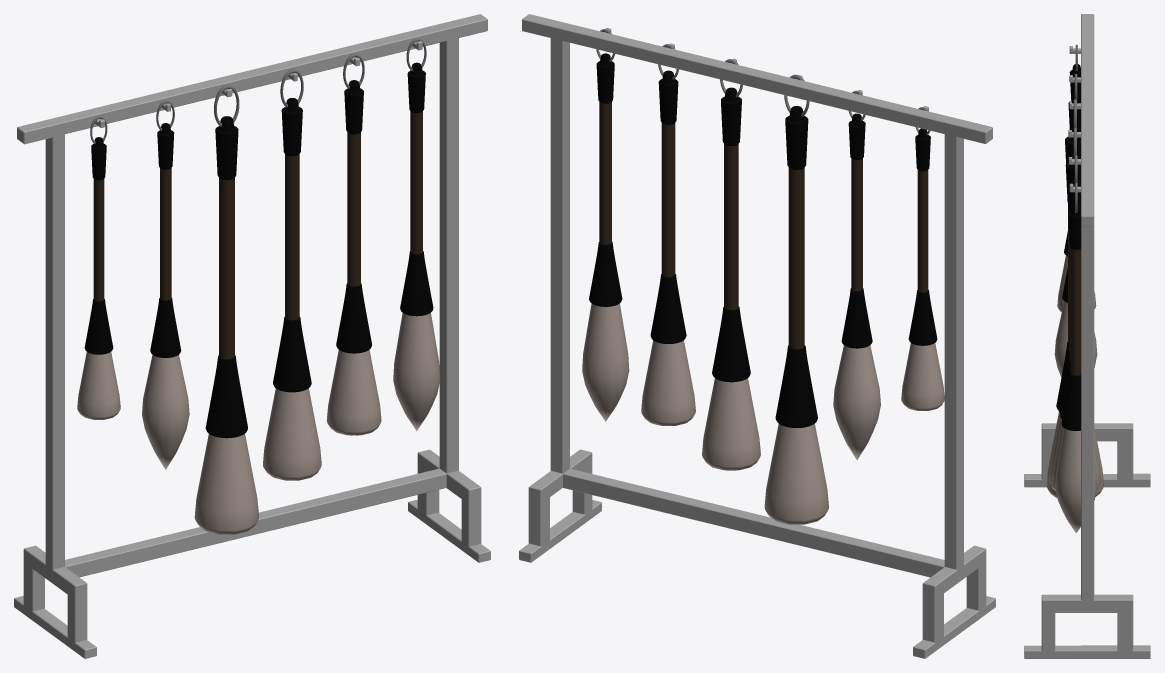
The model's file is uv_bigbrush.fbx.
3 views of the same model, side by side, from view 1: azimuth 30°, elevation 25°; view 2: azimuth 150°, elevation 25°; view 3: azimuth 270°, elevation 25° (orthographic). The views are drawn at different scales.
Visible parts, largest first — view 1: stand6, brush36, brush35, brush30, brush29, brush33, brush34; view 2: stand6, brush36, brush35, brush30, brush29, brush33, brush34; view 3: stand6, brush29, brush35, brush33, brush36, brush30, brush34.
Boxes of the visible parts, x1,y1,x2,y2 form: stand6: [14, 14, 490, 658]; brush36: [194, 85, 258, 534]; brush35: [263, 69, 321, 480]; brush30: [326, 53, 381, 435]; brush29: [393, 38, 440, 430]; brush33: [142, 100, 189, 469]; brush34: [77, 116, 120, 419]; stand6: [519, 14, 995, 658]; brush36: [764, 74, 828, 524]; brush35: [702, 59, 760, 470]; brush30: [641, 44, 695, 425]; brush29: [582, 29, 629, 421]; brush33: [833, 90, 880, 460]; brush34: [901, 107, 944, 410]; stand6: [1024, 14, 1150, 658]; brush29: [1055, 182, 1097, 533]; brush35: [1049, 128, 1101, 490]; brush33: [1054, 73, 1097, 377]; brush36: [1046, 99, 1103, 497]; brush30: [1051, 155, 1100, 489]; brush34: [1057, 44, 1096, 311].
Bounding box in the file's own units: 146 × 154 × 38.66.
